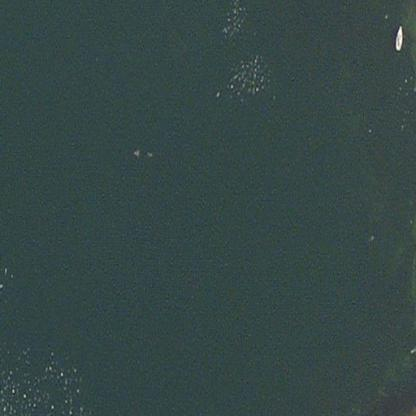ship: (393, 24, 402, 50)
